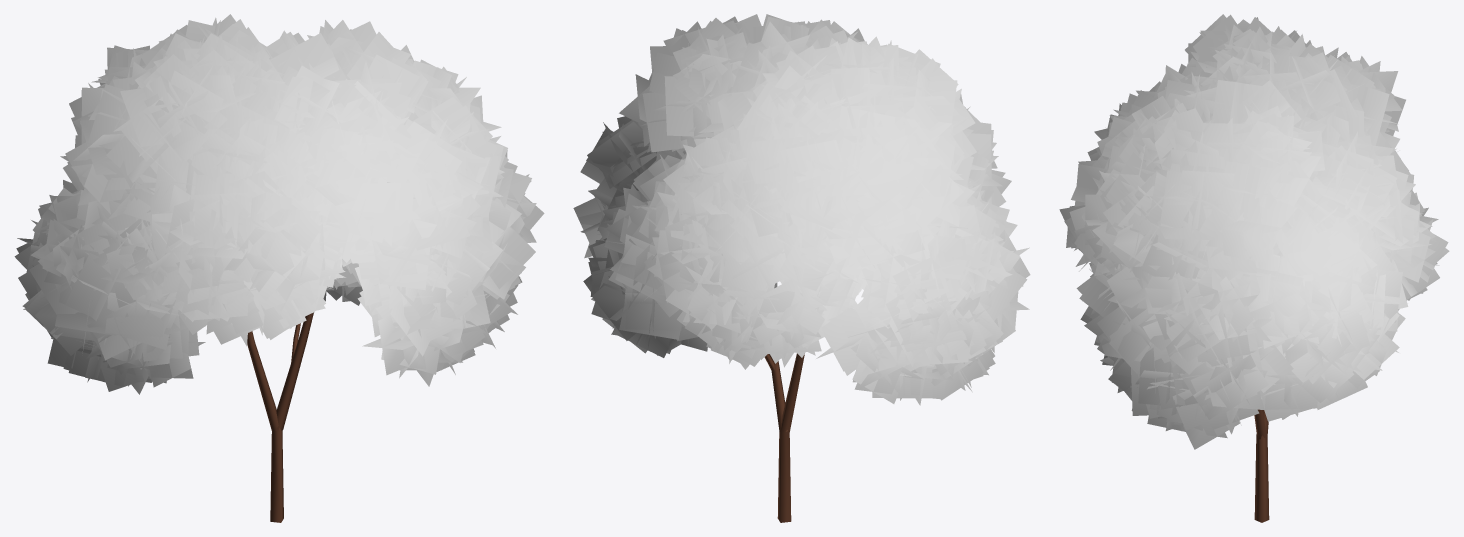
Rendered from T1Tree4.fbx.
The picture shows the model from 3 angles, left to right: view 1: azimuth 30°, elevation 25°; view 2: azimuth 150°, elevation 25°; view 3: azimuth 270°, elevation 25°; orthographic projection. The views are drawn at different scales.
Visible parts, largest first — view 1: Leaves_1.4B, Leaves_1.4A, Bark_1.4; view 2: Leaves_1.4A, Leaves_1.4B, Bark_1.4; view 3: Leaves_1.4B, Leaves_1.4A, Bark_1.4.
Boxes of the visible parts, x1,y1,x2,y2 form: Leaves_1.4B: [17, 14, 531, 394]; Leaves_1.4A: [14, 19, 544, 386]; Bark_1.4: [247, 312, 313, 522]; Leaves_1.4A: [578, 14, 1029, 405]; Leaves_1.4B: [573, 14, 1030, 390]; Bark_1.4: [764, 353, 804, 522]; Leaves_1.4B: [1059, 14, 1439, 449]; Leaves_1.4A: [1072, 14, 1449, 434]; Bark_1.4: [1254, 409, 1269, 522].
Size of the model in its own units: 6.8 by 7.06 by 5.39.
